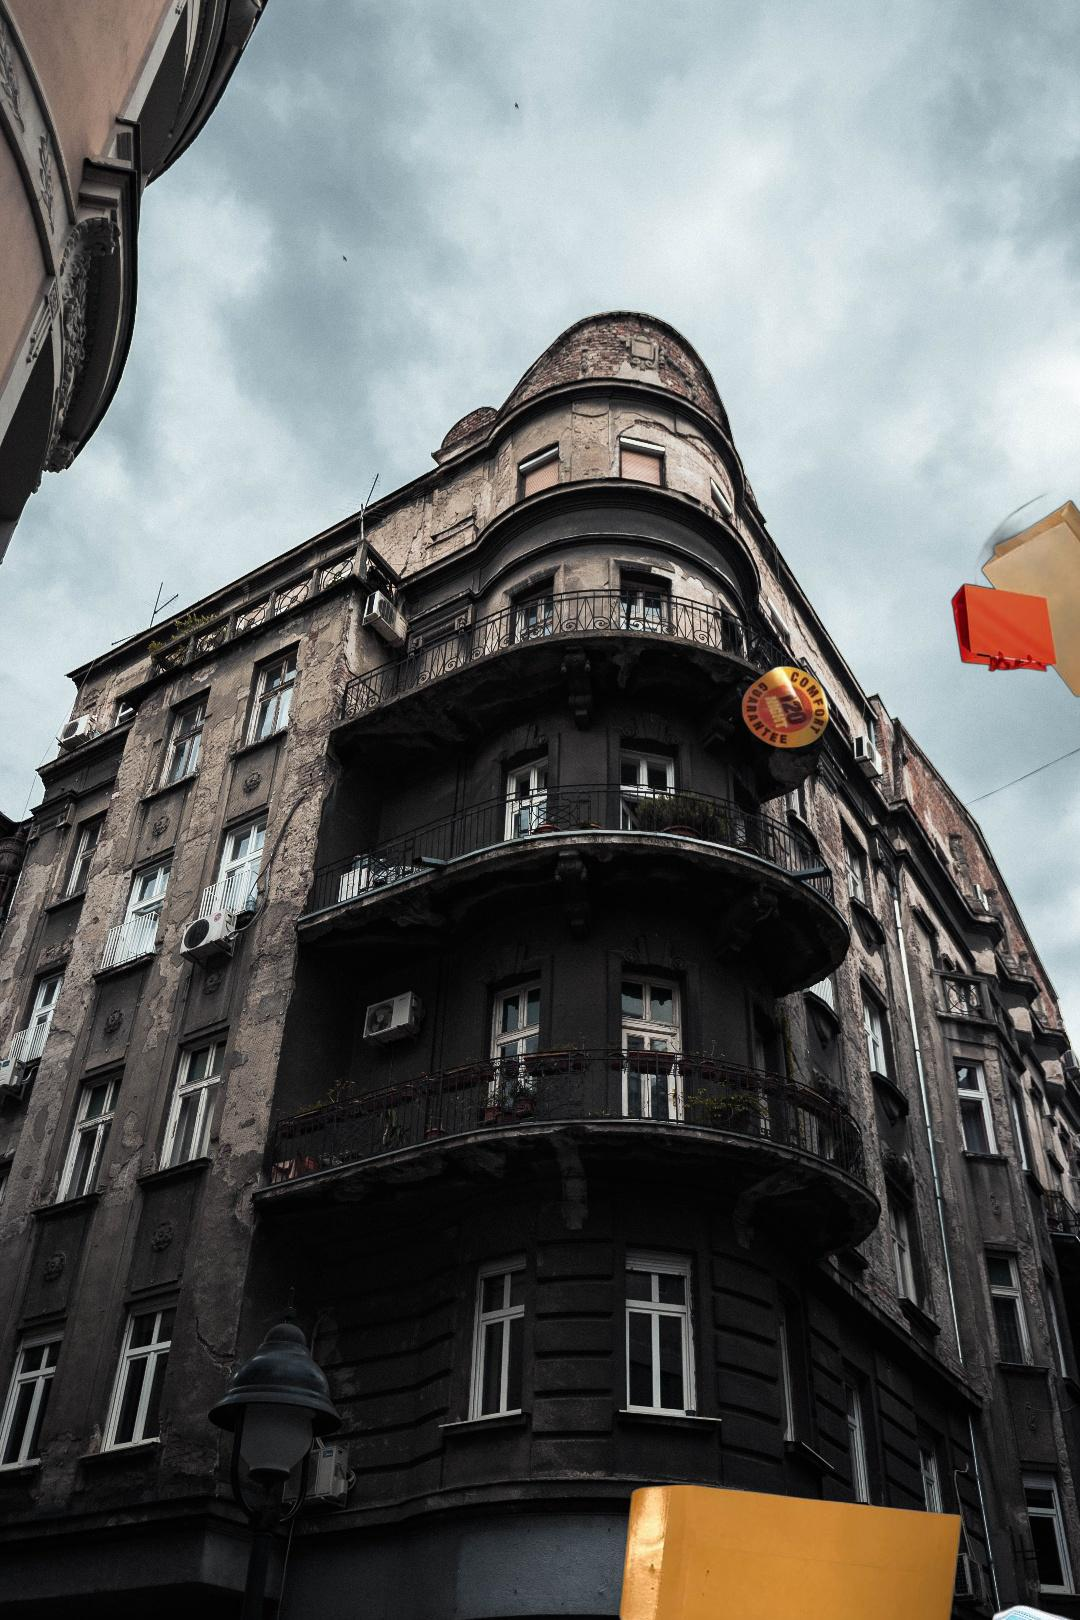metal-cans: (254, 1566, 650, 1620)
paper: (736, 662, 1066, 1044), (614, 1481, 967, 1620)
paper-bag: (949, 479, 1080, 700), (753, 1567, 884, 1620)
trash: (976, 1602, 1080, 1620)
